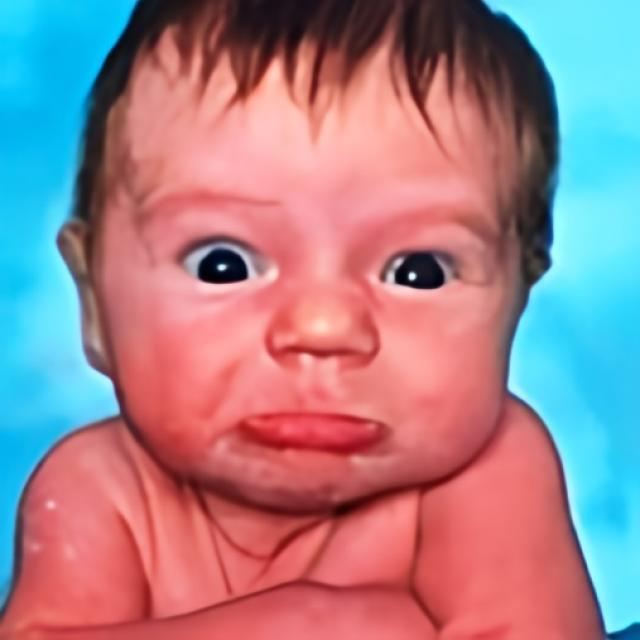fear: (112, 49, 516, 509)
